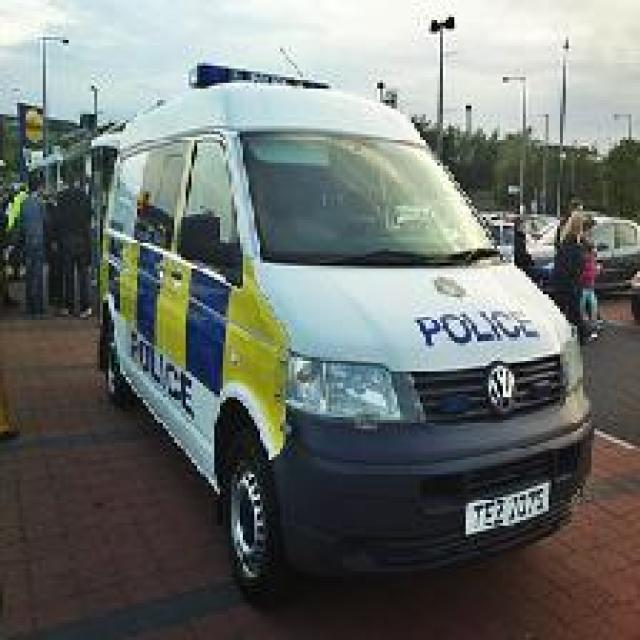Police-car: (26, 57, 597, 600)
